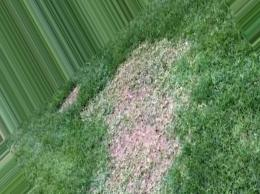patch: (126, 81, 168, 167), (108, 99, 129, 151), (112, 169, 142, 193), (148, 172, 161, 194), (133, 61, 152, 70), (65, 94, 80, 103)
